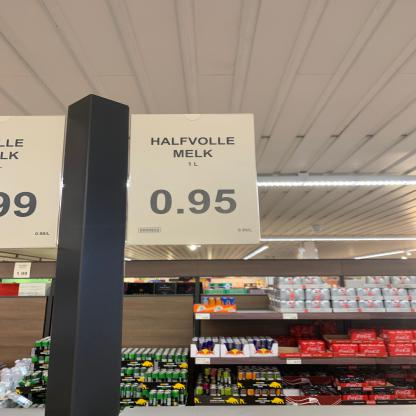prtg: (124, 115, 262, 247), (1, 116, 67, 250)
